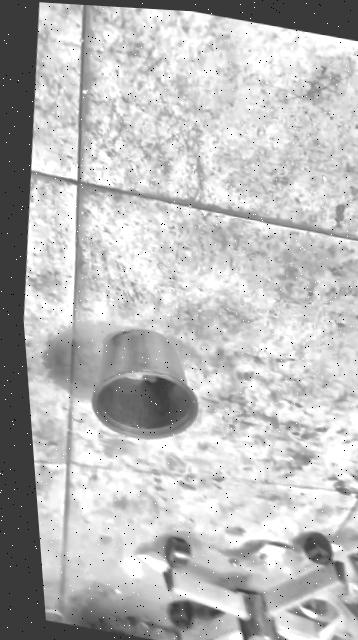pot: (81, 319, 209, 449)
